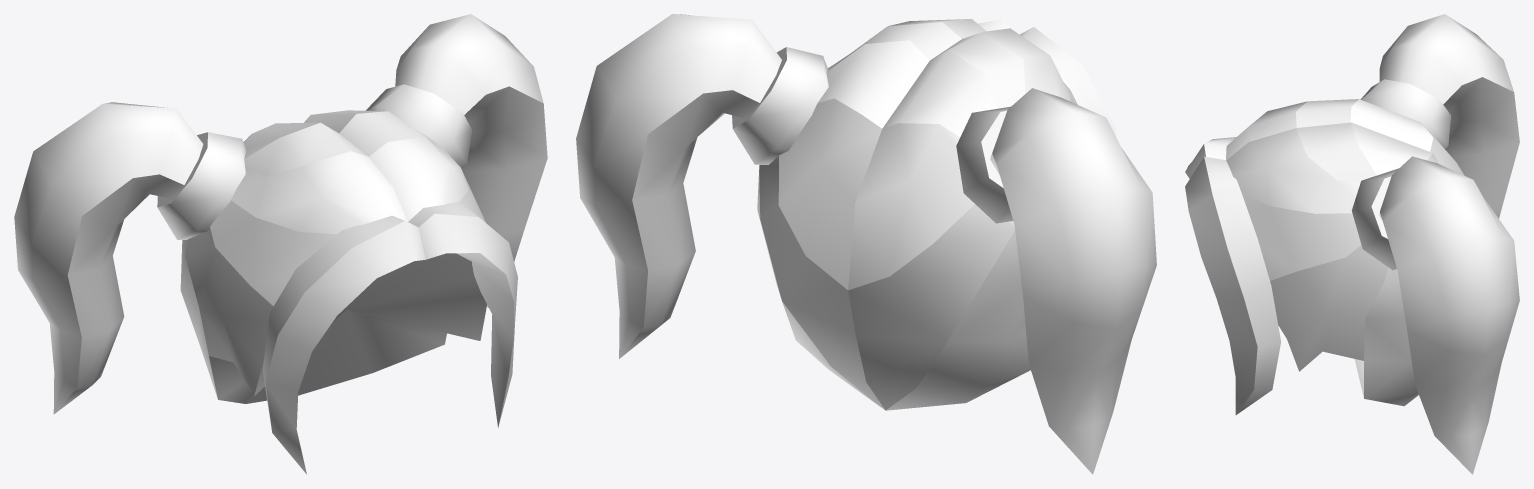
Rendered from Female_Hairs_10_v3.fbx.
3 renders of one model, left to right at view 1: azimuth 30°, elevation 25°; view 2: azimuth 150°, elevation 25°; view 3: azimuth 270°, elevation 25°, orthographic. The views are drawn at different scales.
Parts seen in each view (by area): view 1: Female_Hairs_10_v3; view 2: Female_Hairs_10_v3; view 3: Female_Hairs_10_v3.
Part boxes in pixels (box(x1,y1,x2,y2)): Female_Hairs_10_v3: box(14, 14, 547, 474); Female_Hairs_10_v3: box(576, 14, 1156, 474); Female_Hairs_10_v3: box(1185, 14, 1519, 474).
Bounding box in the file's own units: 100 × 62.14 × 63.63.
